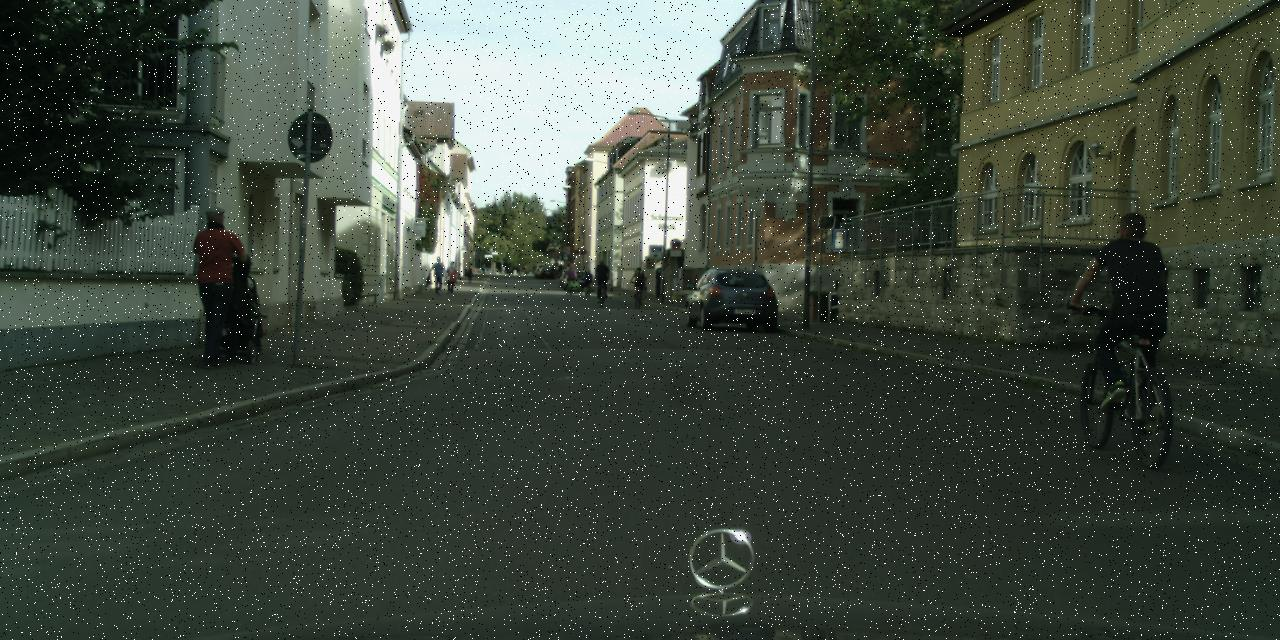ped: (1090, 212, 1174, 416), (180, 207, 246, 367), (593, 259, 609, 299), (430, 256, 445, 293), (631, 267, 645, 301), (444, 261, 456, 293), (566, 266, 574, 290), (583, 270, 592, 291), (550, 264, 556, 278), (466, 268, 472, 282), (557, 262, 562, 277), (517, 264, 522, 276), (522, 264, 527, 276), (532, 263, 536, 275), (500, 264, 504, 274), (481, 264, 485, 274)
